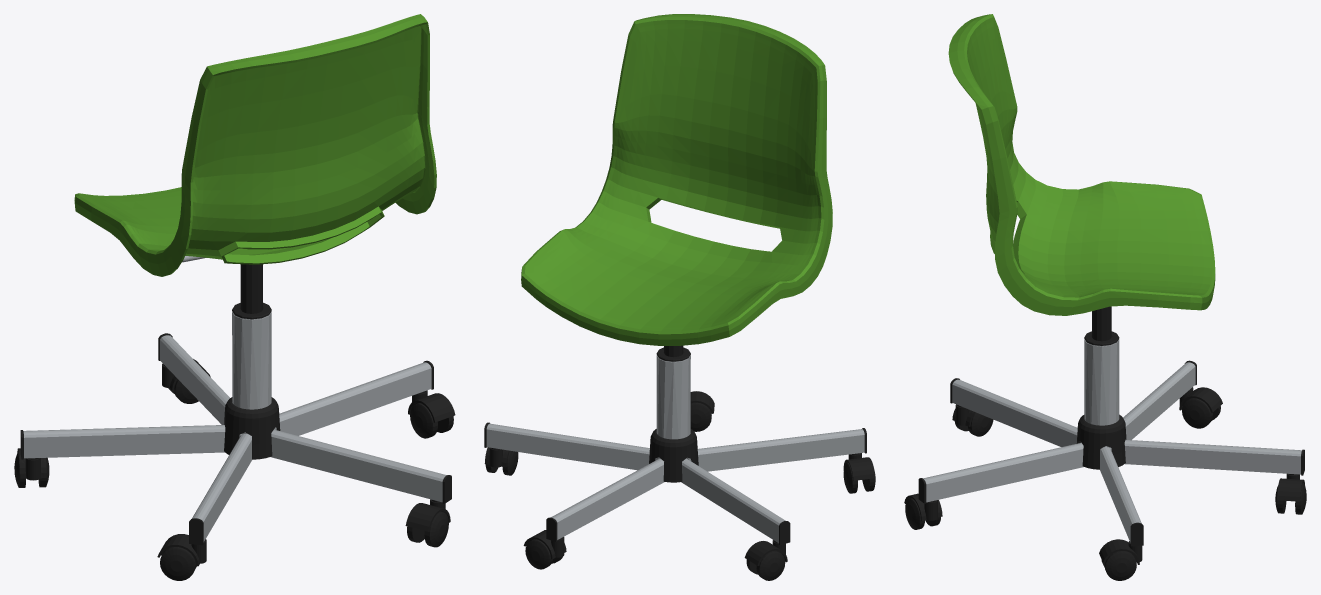
The picture shows the model from 3 angles, left to right: view 1: azimuth 30°, elevation 25°; view 2: azimuth 150°, elevation 25°; view 3: azimuth 270°, elevation 25°; orthographic projection. The views are drawn at different scales.
Visible parts, largest first — view 1: Mesh2 Group2 SNILLE_IKEA1 Model, Mesh8 Group6 SNILLE_IKEA1 Model, Mesh7 Group5 SNILLE_IKEA1 Model, Mesh1 Group1 SNILLE_IKEA1 Model, Mesh3 Group3 SNILLE_IKEA1 Model, Mesh20 ROULETTE4 SNILLE_IKEA1 Model, Mesh12 ROULETTE2 SNILLE_IKEA1 Model, Mesh15 ROULETTE3 SNILLE_IKEA1 Model, Mesh16 ROULETTE3 SNILLE_IKEA1 Model, Mesh18 ROULETTE4 SNILLE_IKEA1 Model, Mesh14 ROULETTE2 SNILLE_IKEA1 Model, Mesh9 ROULETTE1 SNILLE_IKEA1 Model; view 2: Mesh2 Group2 SNILLE_IKEA1 Model, Mesh8 Group6 SNILLE_IKEA1 Model, Mesh7 Group5 SNILLE_IKEA1 Model, Mesh1 Group1 SNILLE_IKEA1 Model, Mesh11 ROULETTE1 SNILLE_IKEA1 Model, Mesh23 ROULETTE5 SNILLE_IKEA1 Model, Mesh18 ROULETTE4 SNILLE_IKEA1 Model, Mesh9 ROULETTE1 SNILLE_IKEA1 Model, Mesh13 ROULETTE2 SNILLE_IKEA1 Model; view 3: Mesh2 Group2 SNILLE_IKEA1 Model, Mesh8 Group6 SNILLE_IKEA1 Model, Mesh7 Group5 SNILLE_IKEA1 Model, Mesh1 Group1 SNILLE_IKEA1 Model, Mesh3 Group3 SNILLE_IKEA1 Model, Mesh17 ROULETTE3 SNILLE_IKEA1 Model, Mesh10 ROULETTE1 SNILLE_IKEA1 Model, Mesh21 ROULETTE5 SNILLE_IKEA1 Model, Mesh15 ROULETTE3 SNILLE_IKEA1 Model, Mesh9 ROULETTE1 SNILLE_IKEA1 Model, Mesh12 ROULETTE2 SNILLE_IKEA1 Model.
Part boxes in pixels (bbox=[...]): Mesh2 Group2 SNILLE_IKEA1 Model: bbox=[74, 14, 436, 276]; Mesh8 Group6 SNILLE_IKEA1 Model: bbox=[20, 333, 451, 545]; Mesh7 Group5 SNILLE_IKEA1 Model: bbox=[232, 311, 271, 409]; Mesh1 Group1 SNILLE_IKEA1 Model: bbox=[224, 397, 280, 459]; Mesh3 Group3 SNILLE_IKEA1 Model: bbox=[232, 264, 271, 319]; Mesh20 ROULETTE4 SNILLE_IKEA1 Model: bbox=[160, 547, 196, 580]; Mesh12 ROULETTE2 SNILLE_IKEA1 Model: bbox=[405, 499, 450, 531]; Mesh15 ROULETTE3 SNILLE_IKEA1 Model: bbox=[408, 390, 455, 422]; Mesh16 ROULETTE3 SNILLE_IKEA1 Model: bbox=[410, 403, 437, 438]; Mesh18 ROULETTE4 SNILLE_IKEA1 Model: bbox=[157, 534, 206, 566]; Mesh14 ROULETTE2 SNILLE_IKEA1 Model: bbox=[424, 511, 448, 547]; Mesh9 ROULETTE1 SNILLE_IKEA1 Model: bbox=[17, 448, 46, 480]; Mesh2 Group2 SNILLE_IKEA1 Model: bbox=[521, 14, 832, 345]; Mesh8 Group6 SNILLE_IKEA1 Model: bbox=[484, 422, 866, 545]; Mesh7 Group5 SNILLE_IKEA1 Model: bbox=[656, 355, 690, 439]; Mesh1 Group1 SNILLE_IKEA1 Model: bbox=[649, 429, 698, 482]; Mesh11 ROULETTE1 SNILLE_IKEA1 Model: bbox=[756, 550, 785, 580]; Mesh23 ROULETTE5 SNILLE_IKEA1 Model: bbox=[525, 539, 552, 569]; Mesh18 ROULETTE4 SNILLE_IKEA1 Model: bbox=[843, 453, 875, 480]; Mesh9 ROULETTE1 SNILLE_IKEA1 Model: bbox=[744, 540, 787, 565]; Mesh13 ROULETTE2 SNILLE_IKEA1 Model: bbox=[690, 402, 711, 431]; Mesh2 Group2 SNILLE_IKEA1 Model: bbox=[948, 14, 1215, 315]; Mesh8 Group6 SNILLE_IKEA1 Model: bbox=[918, 360, 1304, 546]; Mesh7 Group5 SNILLE_IKEA1 Model: bbox=[1084, 339, 1119, 425]; Mesh1 Group1 SNILLE_IKEA1 Model: bbox=[1076, 414, 1126, 469]; Mesh3 Group3 SNILLE_IKEA1 Model: bbox=[1084, 306, 1119, 345]; Mesh17 ROULETTE3 SNILLE_IKEA1 Model: bbox=[1104, 551, 1136, 580]; Mesh10 ROULETTE1 SNILLE_IKEA1 Model: bbox=[1182, 398, 1212, 428]; Mesh21 ROULETTE5 SNILLE_IKEA1 Model: bbox=[1277, 473, 1304, 501]; Mesh15 ROULETTE3 SNILLE_IKEA1 Model: bbox=[1099, 539, 1142, 564]; Mesh9 ROULETTE1 SNILLE_IKEA1 Model: bbox=[1179, 387, 1222, 412]; Mesh12 ROULETTE2 SNILLE_IKEA1 Model: bbox=[904, 493, 942, 520].
Bounding box in the file's own units: 0.5859 × 0.7262 × 0.5961.
